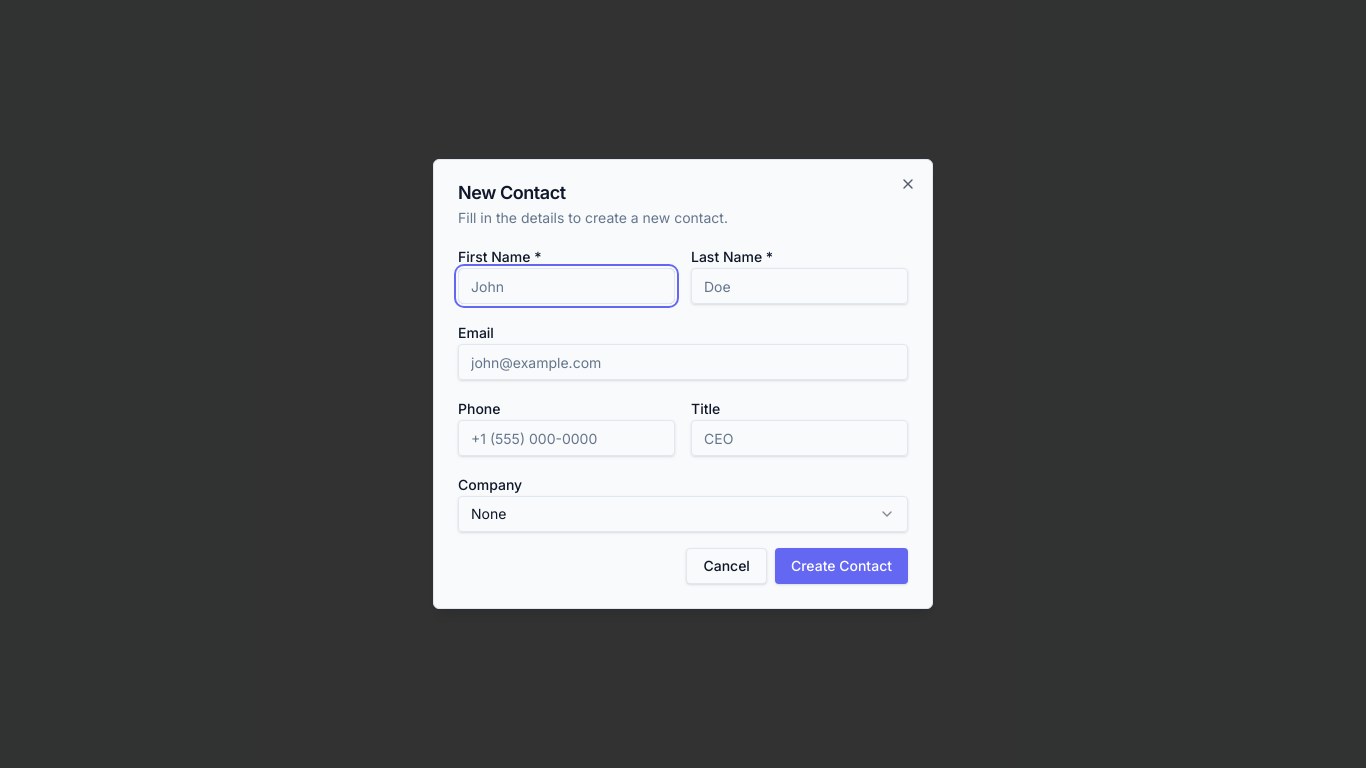
Test case: ContactForm › shows validation errors for required fields when submitted empty
# Click submit without filling anything
Click the button "Create Contact" at (841, 566), box x1=775 y1=548 x2=908 y2=584
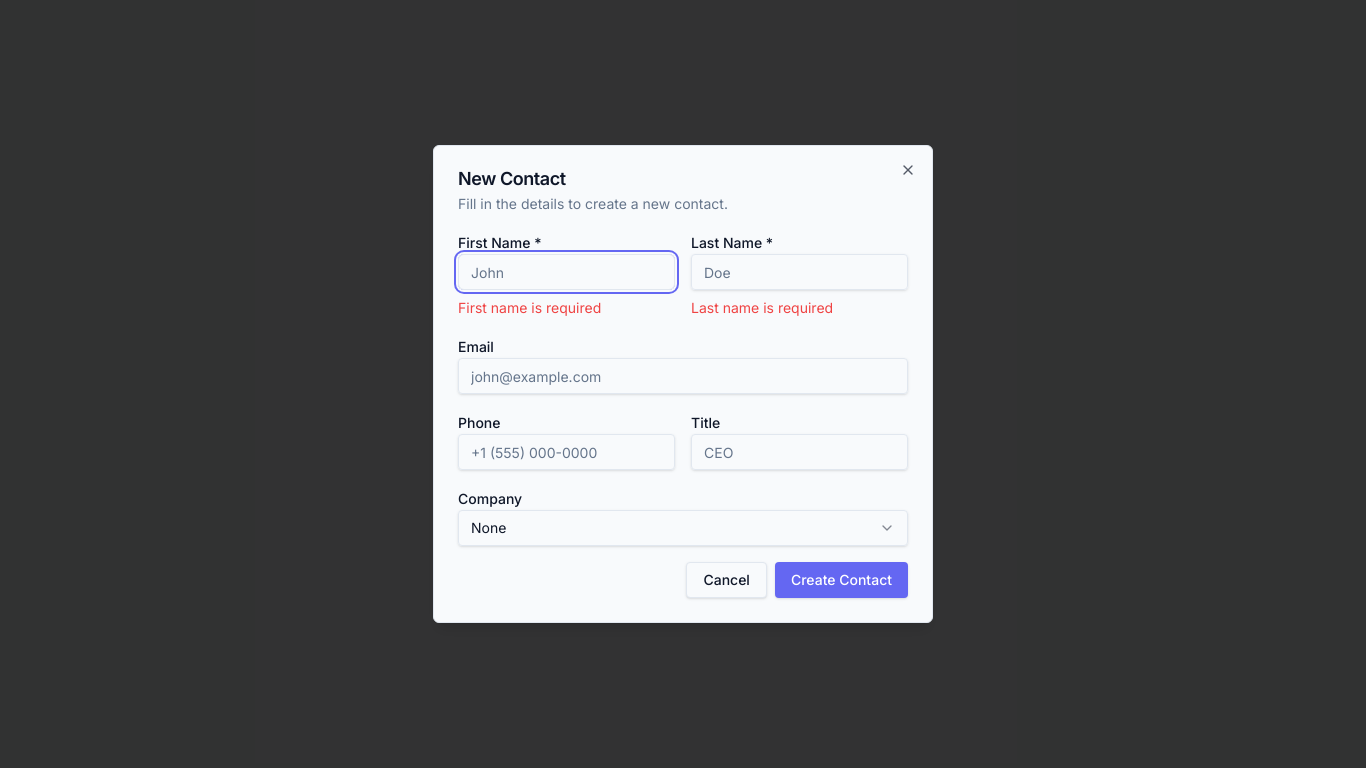
Check: the text "First name is required" is shown, box x1=458 y1=299 x2=601 y2=316
Check: the text "Last name is required" is shown, box x1=691 y1=299 x2=833 y2=316
